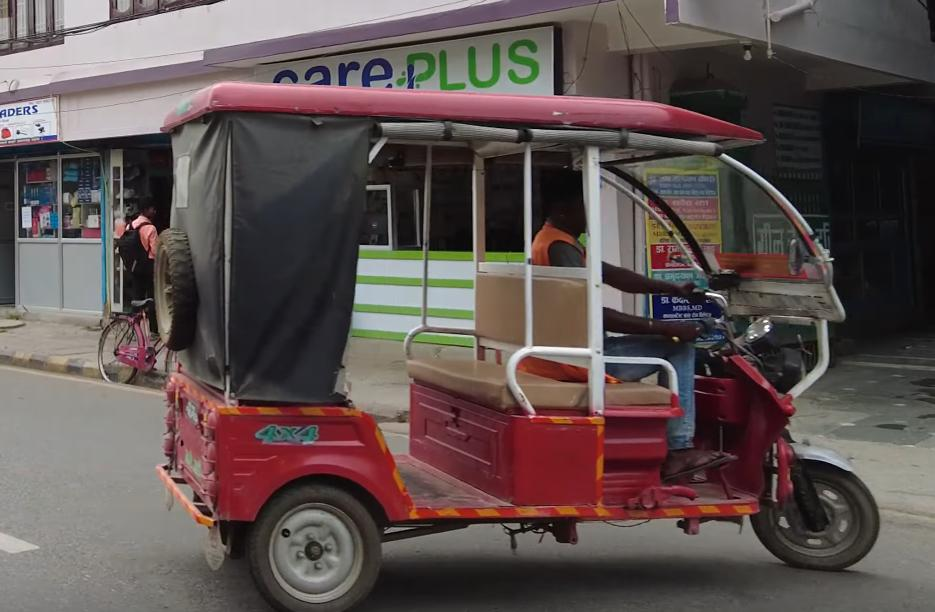e-rickshaw: (134, 56, 880, 612)
